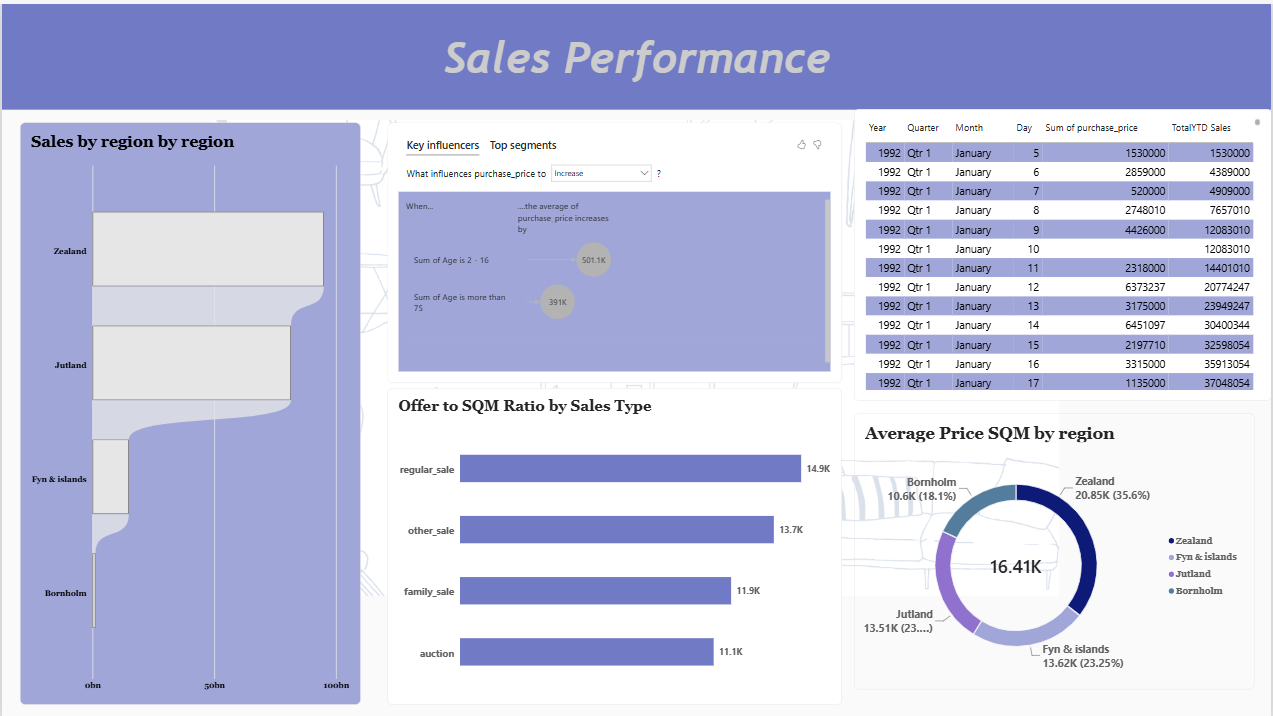

What the dashboard file says about the page in this screenshot:
{"tool":"powerbi","page":{"name":"Sales Performance","canvas":[1920,1080],"ordinal":1},"visuals":[{"type":"shape","box":[0,0,1920.7,159.9],"z":0},{"type":"barChart","fields":{"Category":["Housing.region"],"Y":["Measures table.Sales by region"]},"box":[26.2,178.9,515.4,880.4],"z":1000},{"type":"tableEx","fields":{"Values":["Housing.date.Variation.Date Hierarchy.Year","Housing.date.Variation.Date Hierarchy.Quarter","Housing.date.Variation.Date Hierarchy.Month","Housing.date.Variation.Date Hierarchy.Day","Sum(Housing.purchase_price)","Measures table.TotalYTD Sales"]},"box":[1288.4,159.9,632.3,441.4],"z":2000},{"type":"donutChart","fields":{"Category":["Housing.region"],"Y":["Measures table.Average Price SQM"]},"box":[1288.4,620.3,606,417.5],"z":3000},{"type":"keyDriversVisual","fields":{"ExplainBy":["Sum(Housing.Age)"],"Target":["Housing.purchase_price"]},"box":[582.2,178.9,687.1,393.7],"z":4000},{"type":"barChart","title":"Offer to SQM Ratio by Sales Type","fields":{"Category":["Housing.sales_type"],"Y":["Measures table.Offer to SQM Ration"]},"box":[582,580,687,479],"z":5000}]}

Visuals, with their boxes in screenshot pixels (x1, y1, x2, y2), scaled from the page's 1920x1080 canvas onto the 1273x716 screenshot:
shape: <region>0, 0, 1272, 106</region>
barChart - Housing.region x Measures table.Sales by region: <region>17, 119, 359, 702</region>
tableEx - Housing.date.Variation.Date Hierarchy.Year x Housing.date.Variation.Date Hierarchy.Quarter: <region>854, 106, 1272, 399</region>
donutChart - Housing.region x Measures table.Average Price SQM: <region>854, 411, 1256, 688</region>
keyDriversVisual - Sum(Housing.Age) x Housing.purchase_price: <region>386, 119, 842, 380</region>
"Offer to SQM Ratio by Sales Type" barChart: <region>386, 385, 841, 702</region>
